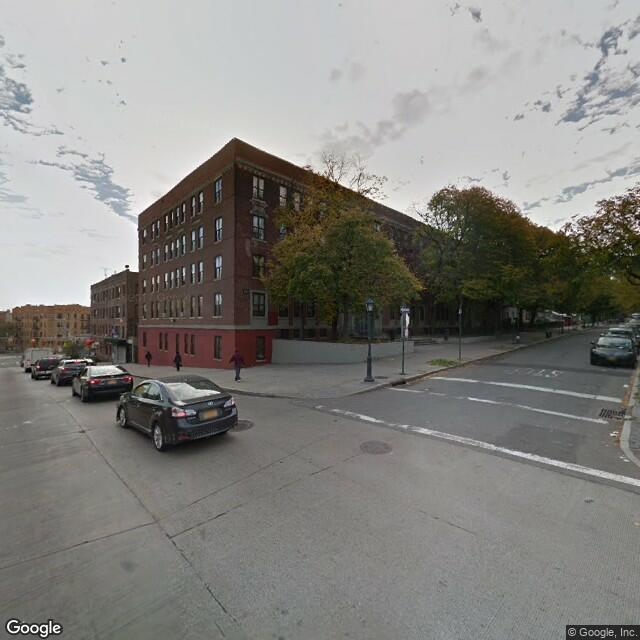litter: (617, 452, 632, 462), (608, 429, 619, 440), (621, 380, 631, 391), (515, 333, 521, 338)
